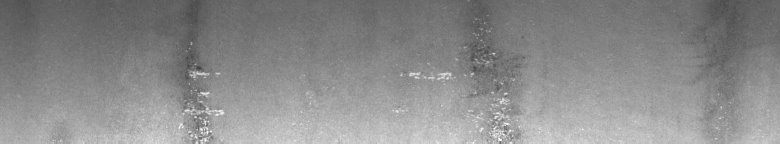hc: (172, 42, 225, 136)
